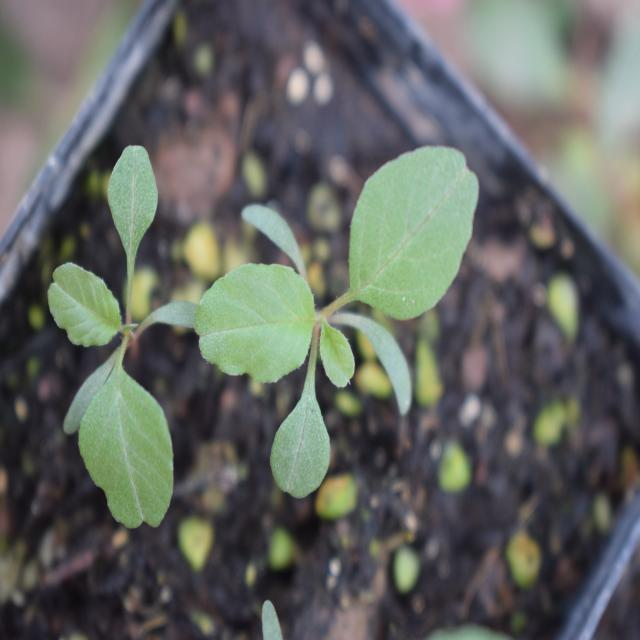pigweed: (192, 113, 470, 491)
